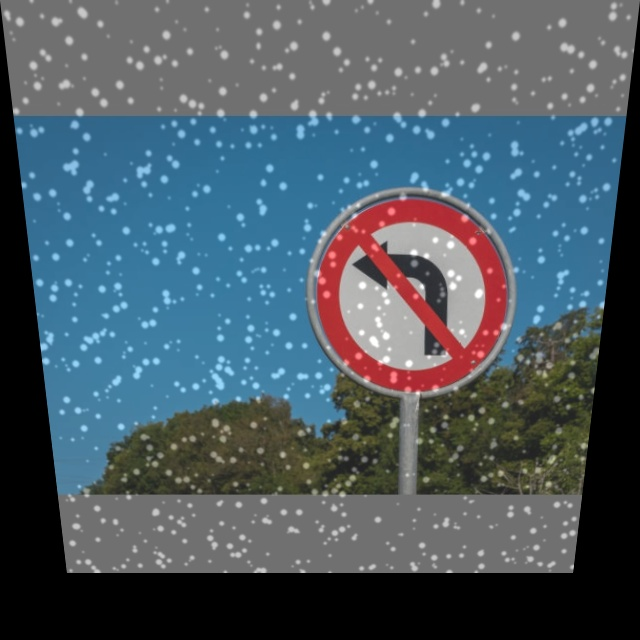Left_Turn_Prohibited: (307, 196, 525, 394)
